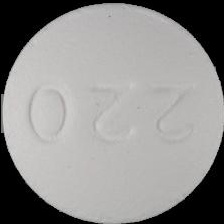69189-0298: (0, 0, 224, 224)
